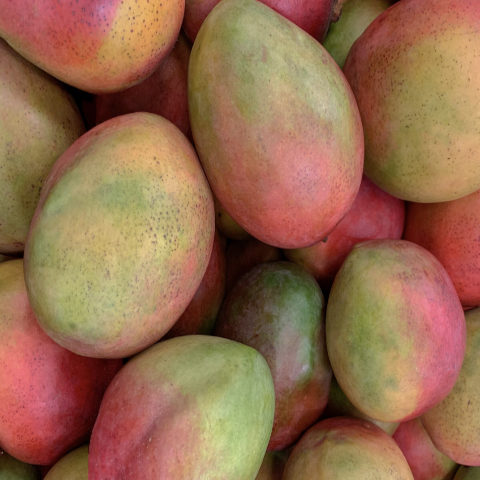mango: (151, 0, 405, 274), (11, 109, 222, 366), (90, 329, 295, 480), (319, 233, 465, 414)
